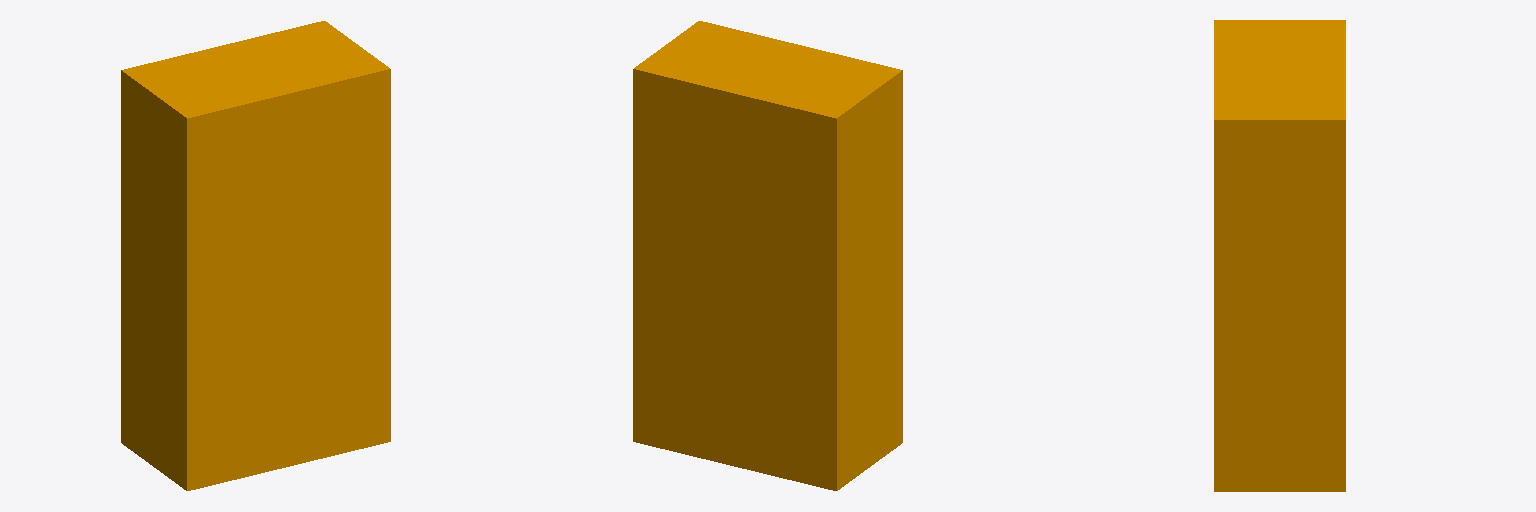
robot.urdf — jiffy.off:
<?xml version="1.0"?>
<robot name="jiffy.off">
	<link name="jiffy.off">
		<inertial>
			<!--origin xyz="0 0 0" rpy="0 0 0" /-->
			<mass value="0.5" />
			<!--inertia ixx="0.000360" ixy="0" ixz="0" iyy="0.0000615" iyz="0" izz="0.00036" /-->
		</inertial>
    		<visual>
	      		<!--origin rpy="0 0 0" xyz="0 0 0"/-->
      			<geometry>
        			<mesh filename="jiffy.off.obj"/>
      			</geometry>
         	</visual>
    		<collision>
      			<!--origin rpy="0 0 0" xyz="0 0 0"/-->
      			<geometry>
        			<mesh filename="jiffy.off.obj"/>
      			</geometry>
    		</collision>
	</link>
</robot>

--- What the picture shows (computed from the rendered views, not written in the file) ---
Views: 3 orthographic renders of the robot side by side, from view 1: azimuth 30°, elevation 25°; view 2: azimuth 150°, elevation 25°; view 3: azimuth 270°, elevation 25°.
Model jiffy.off with 1 links and 0 joints (none), rooted at jiffy.off, posed every joint at zero.
Visible links, largest first — view 1: jiffy.off; view 2: jiffy.off; view 3: jiffy.off.
Boxes of the visible links, x1=… form: jiffy.off: x1=121, y1=21, x2=390, y2=490; jiffy.off: x1=633, y1=21, x2=902, y2=490; jiffy.off: x1=1214, y1=20, x2=1345, y2=491.
Size in the robot's own frame: 8 by 4.5 by 14 metres.
1 mesh visuals loaded from 1 distinct referenced files (1 OBJ).